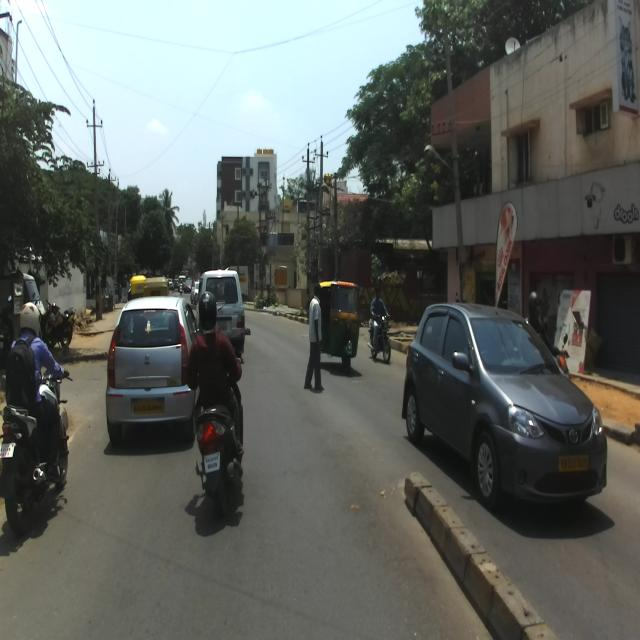car ahead at: (402, 297, 618, 510), (107, 295, 193, 436)
motorcycle ahead at: (0, 381, 73, 536), (190, 393, 252, 502)
person ahead at: (306, 281, 326, 399)
